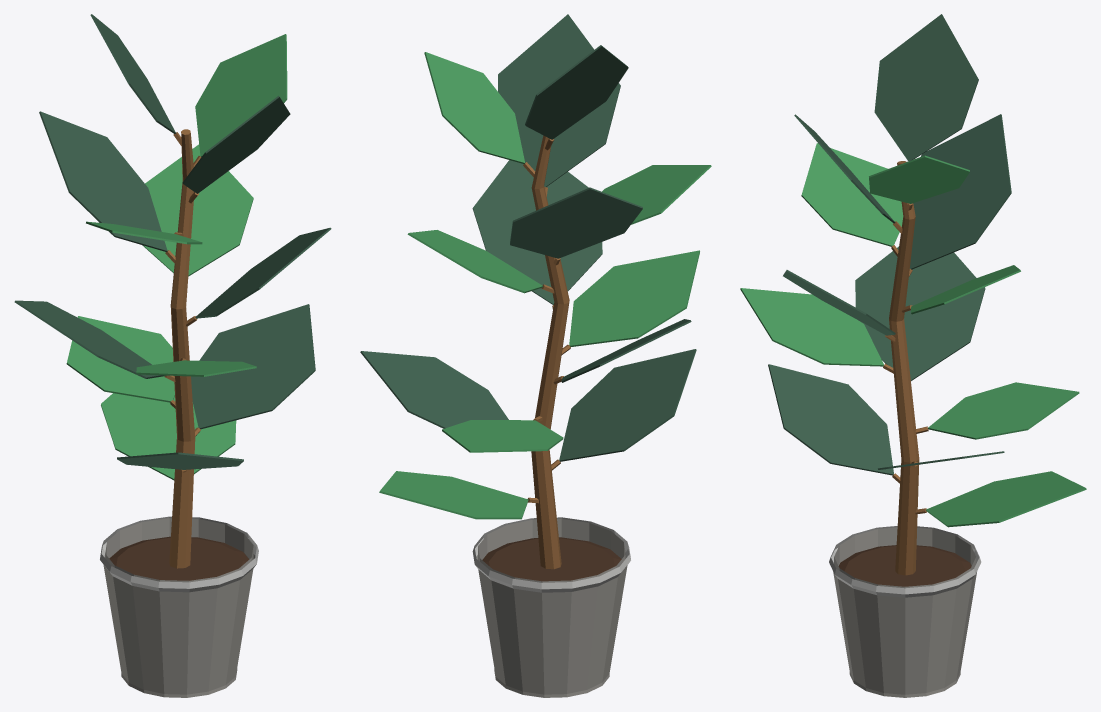
File: FN_Plant_Tall.glb
The picture shows the model from 3 angles, left to right: view 1: azimuth 30°, elevation 25°; view 2: azimuth 150°, elevation 25°; view 3: azimuth 270°, elevation 25°; orthographic projection. The views are drawn at different scales.
Visible parts, largest first — view 1: FN_Plant_Tall; view 2: FN_Plant_Tall; view 3: FN_Plant_Tall.
Boxes of the visible parts, bbox=[...] form: FN_Plant_Tall: bbox=[14, 14, 331, 697]; FN_Plant_Tall: bbox=[360, 14, 711, 697]; FN_Plant_Tall: bbox=[740, 14, 1086, 697].
Bounding box in the file's own units: 0.7947 × 1.6 × 0.7998.
1 material, 1 textured.
